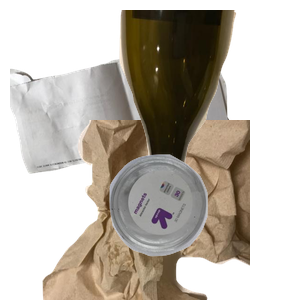glass: (117, 10, 300, 190)
paper: (10, 39, 236, 205)
plastic: (107, 152, 300, 300)
trash: (40, 120, 280, 300)
